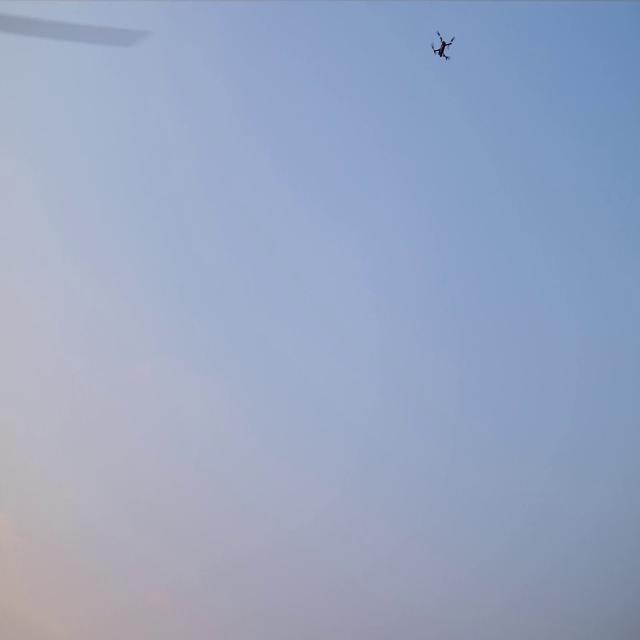UAV: (432, 33, 452, 60)
